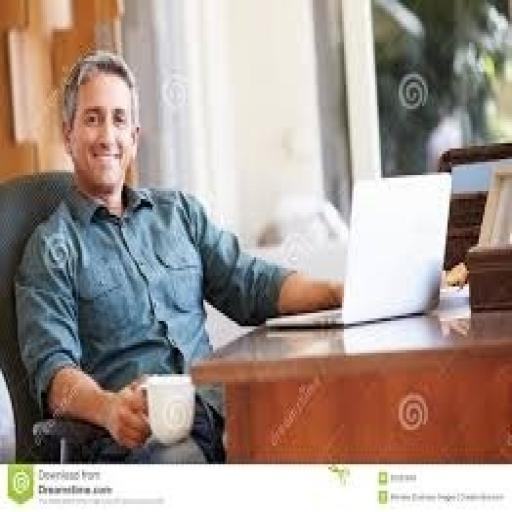using_laptop: (262, 170, 453, 329)
